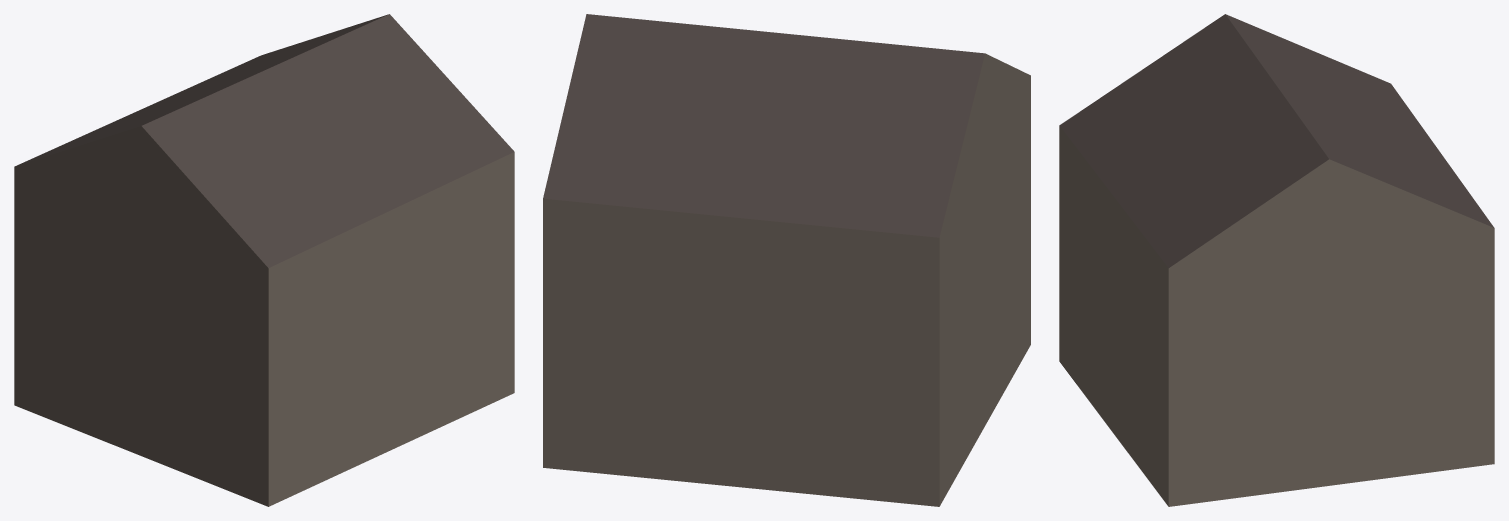
3 renders of one model, left to right at view 1: azimuth 30°, elevation 25°; view 2: azimuth 150°, elevation 25°; view 3: azimuth 270°, elevation 25°, orthographic. The views are drawn at different scales.
Visible parts, largest first — view 1: HP-w1196401644; view 2: HP-w1196401644; view 3: HP-w1196401644.
Boxes of the visible parts, left/top/right/bottom form: HP-w1196401644: left=14, top=14, right=514, bottom=506; HP-w1196401644: left=543, top=14, right=1030, bottom=506; HP-w1196401644: left=1059, top=14, right=1494, bottom=506.
Bounding box in the file's own units: 10.2 × 8.3 × 10.02.
